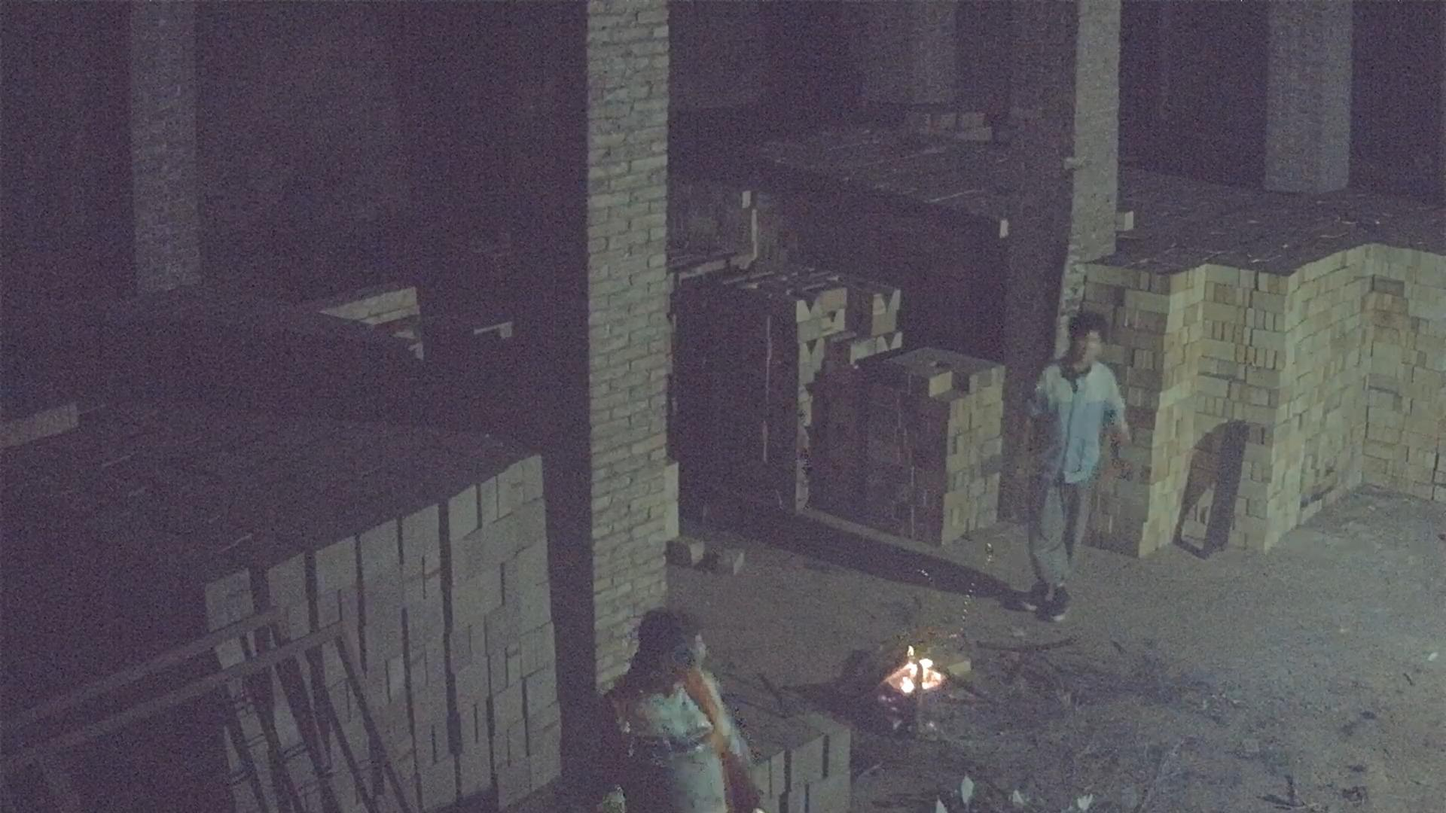fire: (896, 657, 944, 693)
